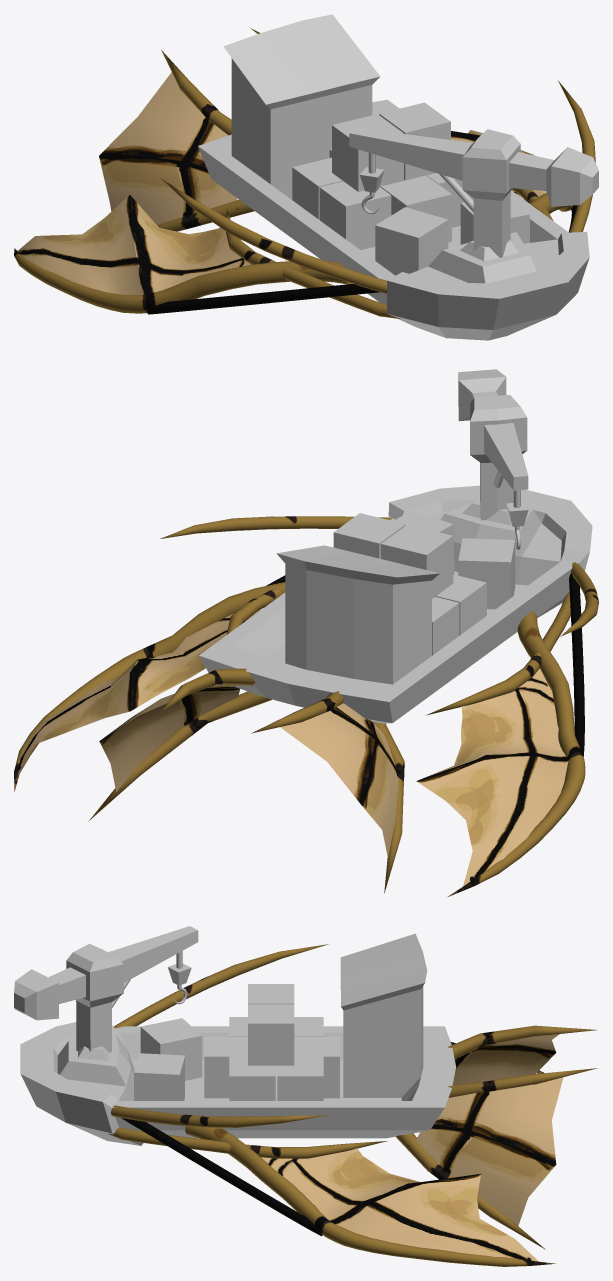
File: AetherWorkboat.fbx
3 views of the same model, one above another, from view 1: azimuth 30°, elevation 25°; view 2: azimuth 150°, elevation 25°; view 3: azimuth 270°, elevation 25° (orthographic). The views are drawn at different scales.
Parts seen in each view (by area): view 1: body, Cube.003, crates, Cube.002, crane, BezierCurve.001, hook, rope; view 2: body, Cube.003, Cube.002, crates, crane, BezierCurve.001; view 3: body, Cube.003, Cube.002, crates, crane, BezierCurve.001, hook.
Part boxes in pixels (x1,y1,x2,y2): body: (198, 14, 589, 340); Cube.003: (14, 80, 595, 321); crates: (292, 102, 529, 275); Cube.002: (99, 28, 260, 231); crane: (349, 127, 598, 257); BezierCurve.001: (146, 205, 577, 314); hook: (360, 167, 384, 213); rope: (368, 153, 473, 212); body: (199, 485, 592, 723); Cube.003: (14, 516, 598, 896); Cube.002: (88, 668, 404, 893); crates: (333, 511, 515, 655); crane: (458, 369, 528, 520); BezierCurve.001: (266, 573, 584, 756); body: (20, 933, 455, 1145); Cube.003: (108, 944, 555, 1266); Cube.002: (395, 1025, 597, 1249); crates: (134, 984, 339, 1100); crane: (14, 926, 198, 1052); BezierCurve.001: (121, 1118, 322, 1236); hook: (168, 963, 191, 1004).
Bounding box in the file's own units: 514 × 264 × 600.
